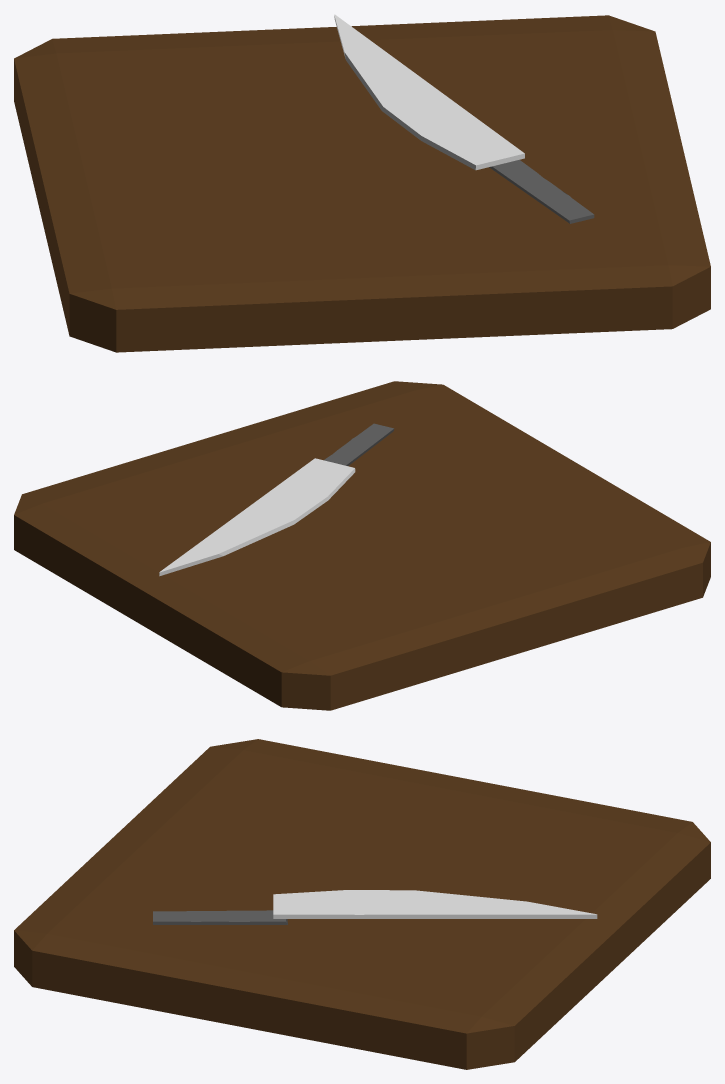
Rendered from tablita.fbx.
3 renders of one model, top to bottom at view 1: azimuth 30°, elevation 25°; view 2: azimuth 150°, elevation 25°; view 3: azimuth 270°, elevation 25°, orthographic. The views are drawn at different scales.
Parts seen in each view (by area): view 1: Cube.001, Cube, Cube.003; view 2: Cube.001, Cube, Cube.003; view 3: Cube.001, Cube, Cube.003.
Boxes of the visible parts, left/top/right/bottom form: Cube.001: left=14, top=15, right=710, bottom=352; Cube: left=334, top=14, right=524, bottom=170; Cube.003: left=489, top=160, right=594, bottom=223; Cube.001: left=14, top=381, right=710, bottom=710; Cube: left=159, top=458, right=355, bottom=576; Cube.003: left=324, top=423, right=394, bottom=465; Cube.001: left=14, top=739, right=710, bottom=1069; Cube: left=273, top=890, right=597, bottom=918; Cube.003: left=153, top=910, right=287, bottom=924.
Size of the model in its own units: 75.3 by 6.75 by 75.3.
